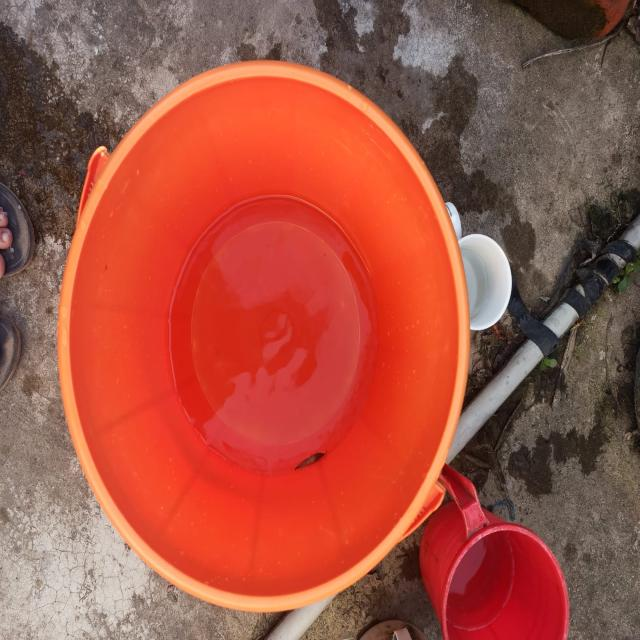Breeding Place: (37, 53, 478, 628), (418, 457, 586, 640), (438, 195, 519, 352)
